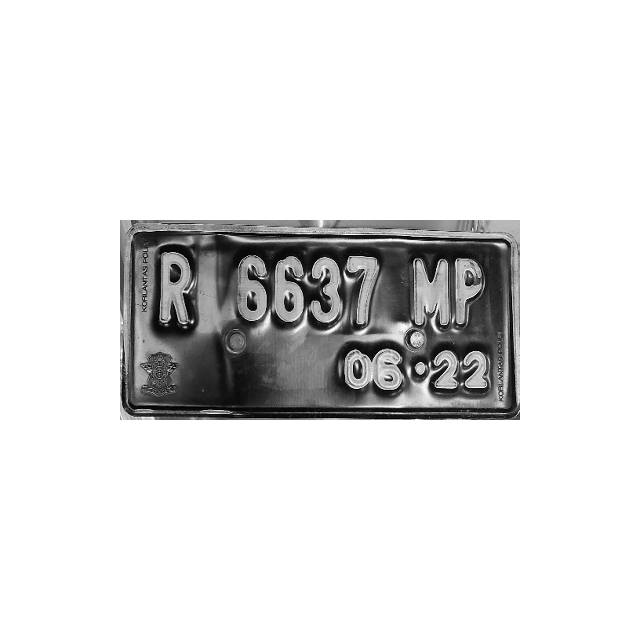contain: (153, 243, 198, 329), (412, 247, 454, 335), (309, 245, 347, 335), (229, 243, 267, 330), (452, 250, 488, 338), (271, 243, 306, 332), (343, 242, 378, 331)
